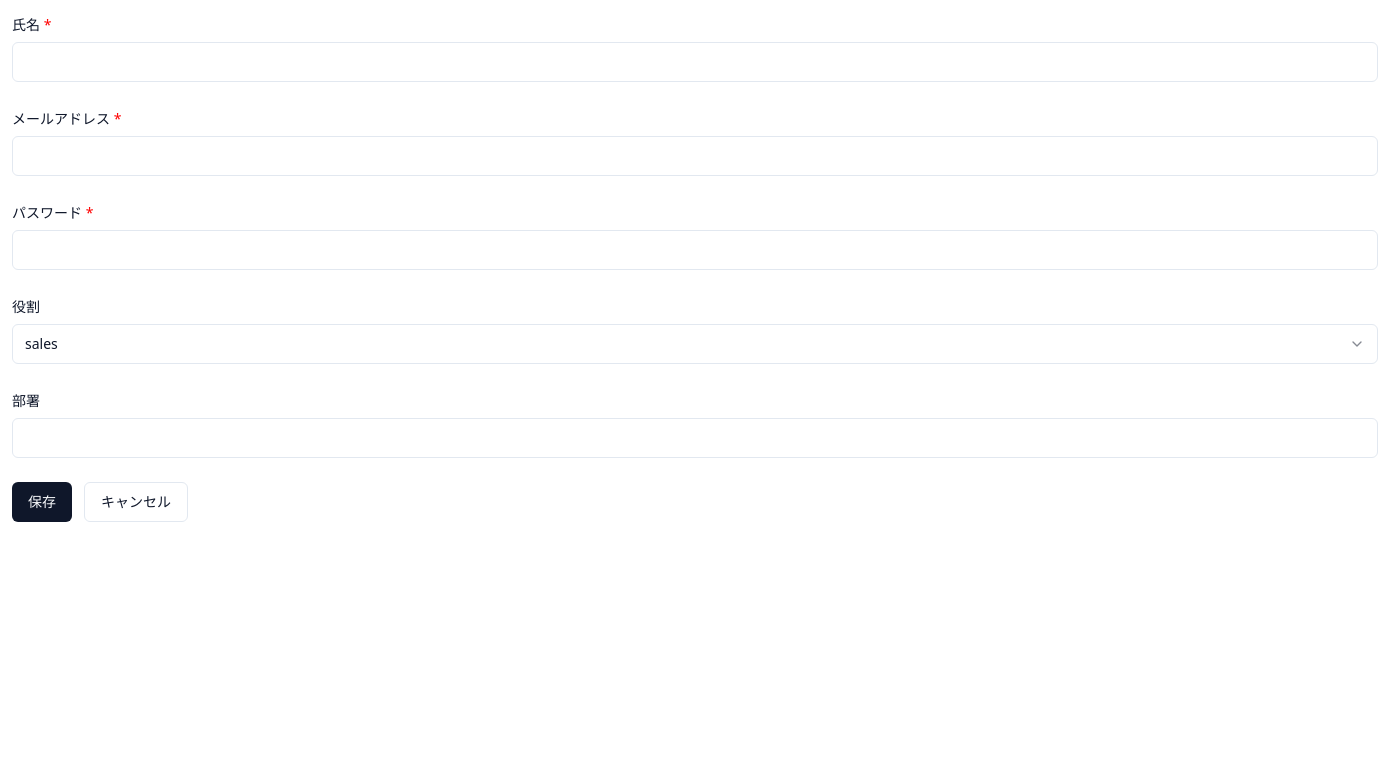
Scenario: UserForm – 新規登録モード (mode="create") › バリデーション › メール形式が不正な場合にエラーメッセージを表示する
Type "田中 花子" into the field labelled "氏名 *".
click(695, 62); type("田中 花子")  # box [12,42,1378,82]
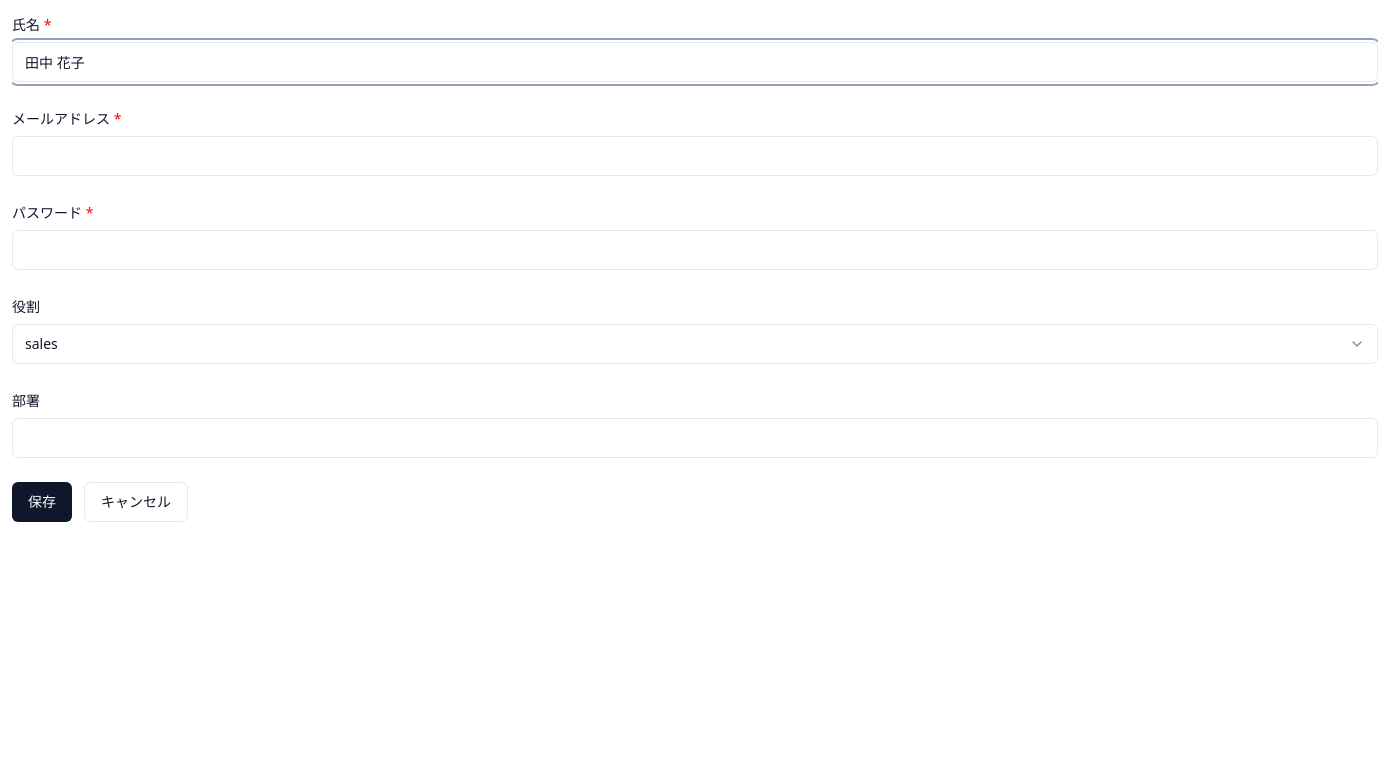
Type "not-an-email" into the field labelled "メールアドレス *".
click(695, 156); type("not-an-email")  # box [12,136,1378,176]
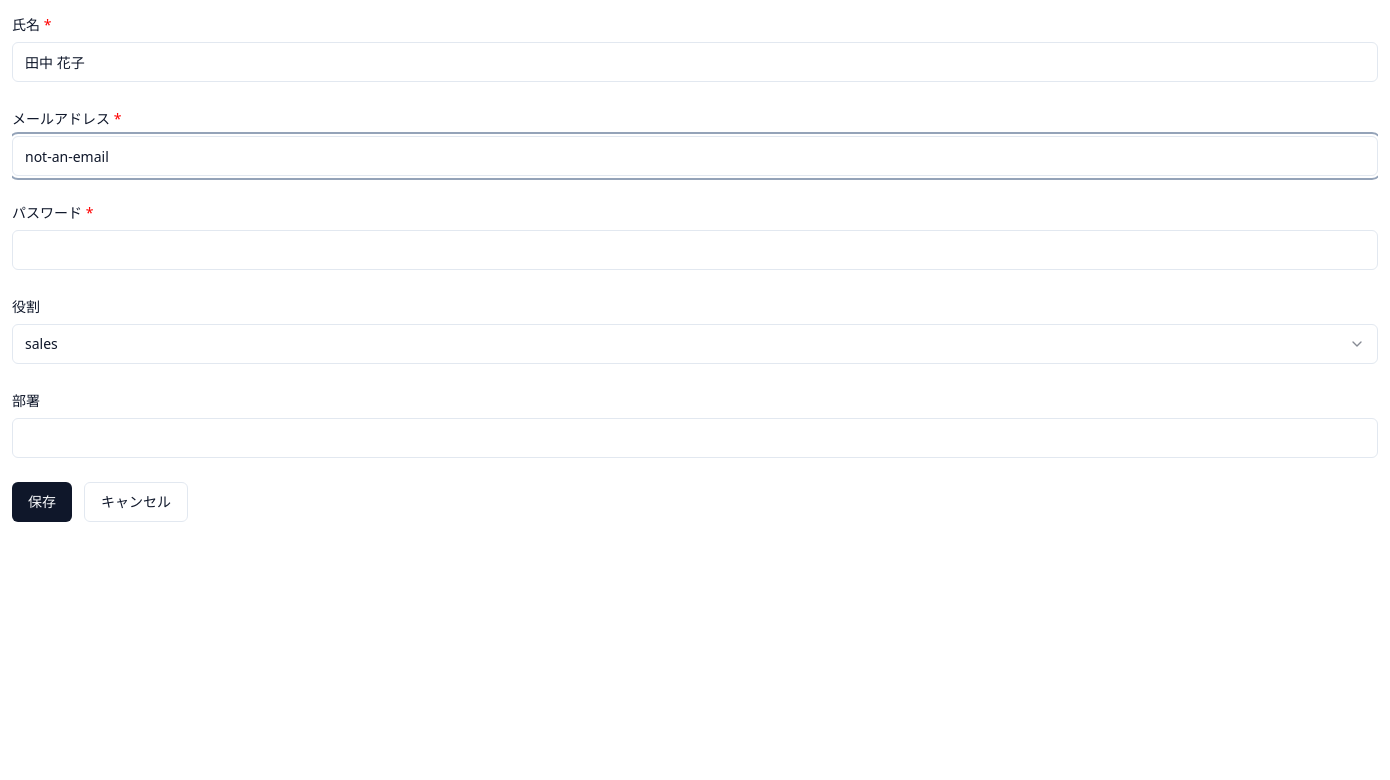
Type "password123" into the password field labelled "パスワード *".
click(695, 250); type("password123")  # box [12,230,1378,270]
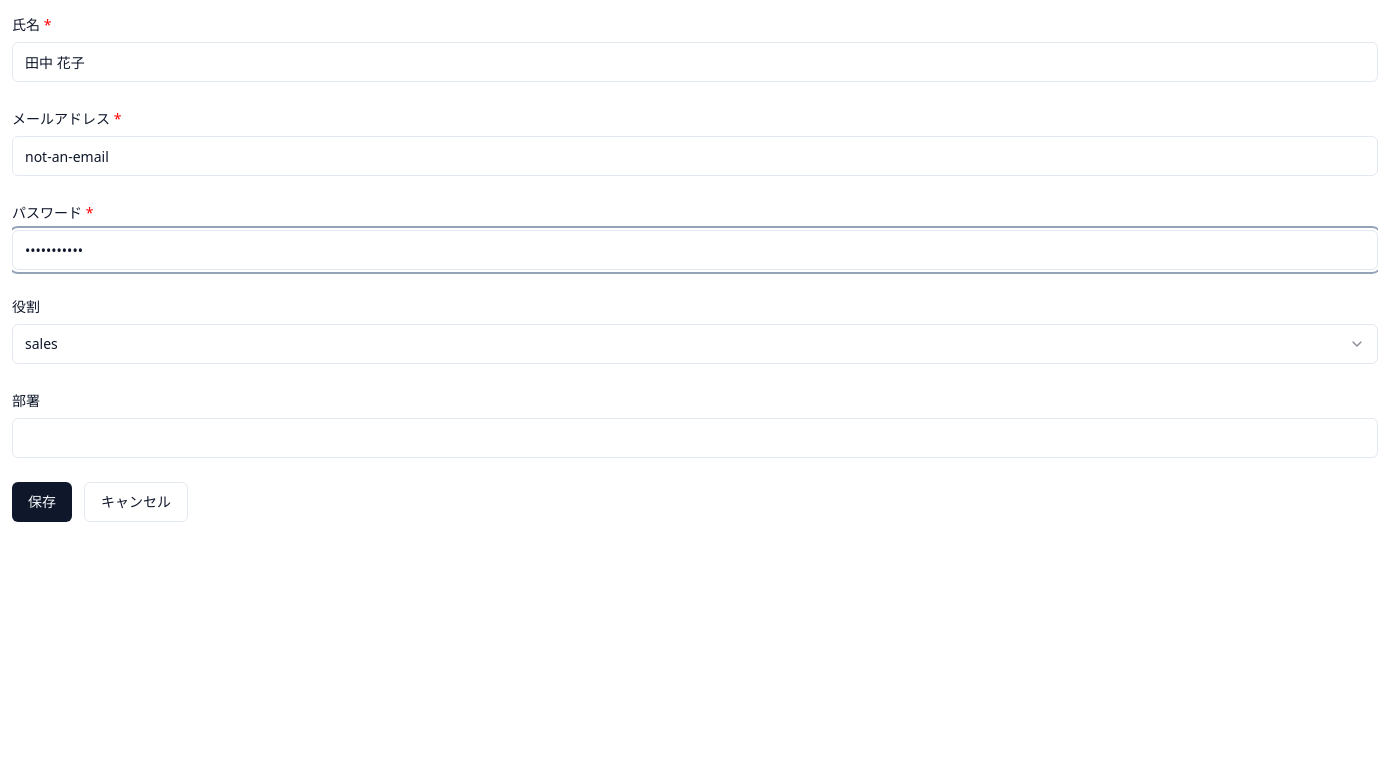
Click the button "保存".
click(42, 502)  # box [12,482,72,522]
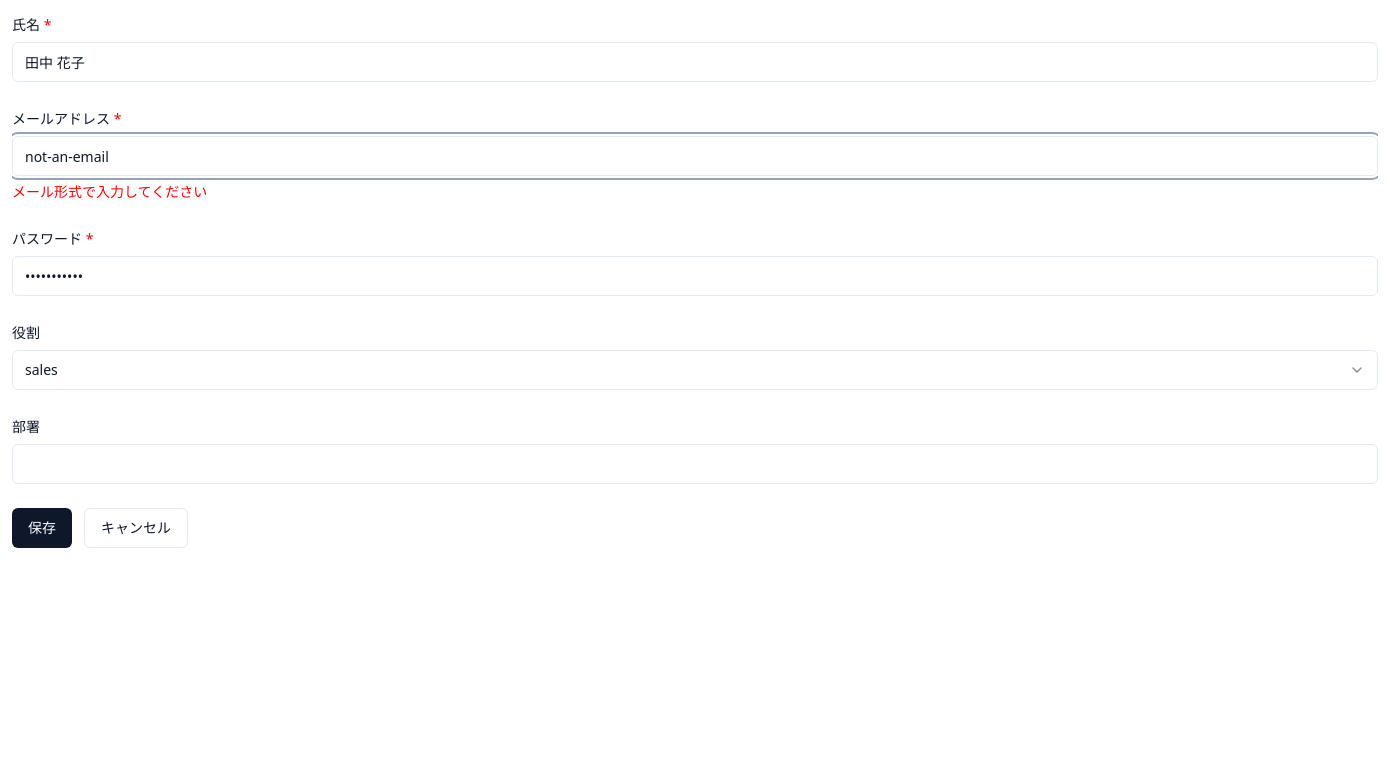
Check: the text "メール形式で入力してください" is shown, box [12,182,207,201]
